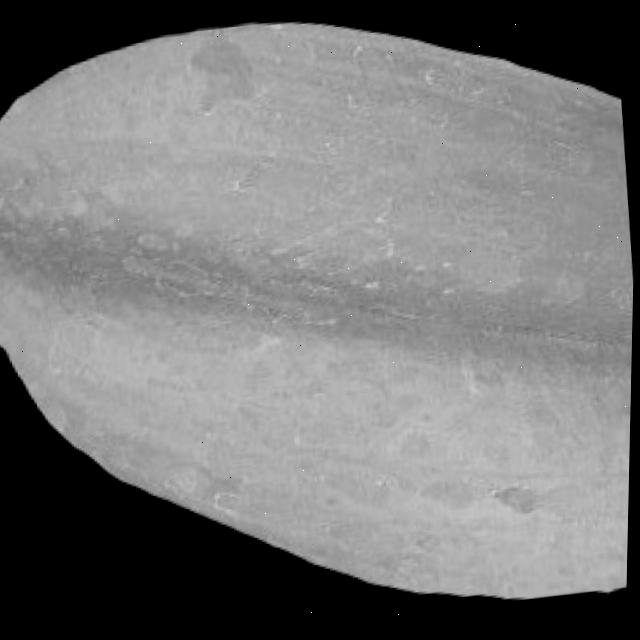mite: (209, 485, 240, 517)
